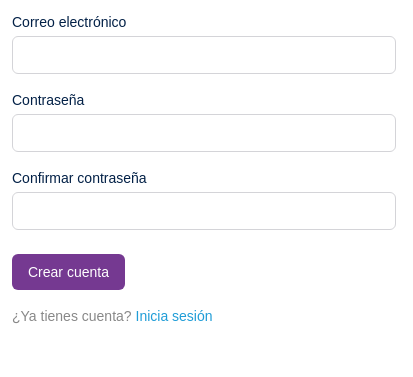
Test case: RegisterForm › shows the backend error message and does not navigate when registration fails
Type "a@example.com" into the field labelled "Correo electrónico".
click(204, 55); type("a@example.com")  # box left=12, top=36, right=396, bottom=74
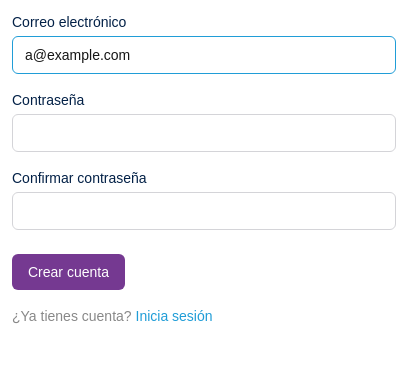
Type "correct-horse" into the password field labelled "Contraseña".
click(204, 133); type("correct-horse")  # box left=12, top=114, right=396, bottom=152
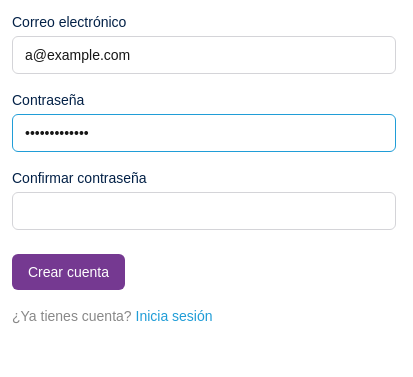
Type "correct-horse" into the password field labelled "Confirmar contraseña".
click(204, 211); type("correct-horse")  # box left=12, top=192, right=396, bottom=230
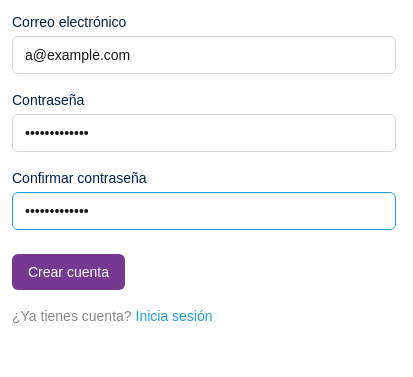
Click the button "Crear cuenta".
click(68, 272)  # box left=12, top=254, right=125, bottom=290
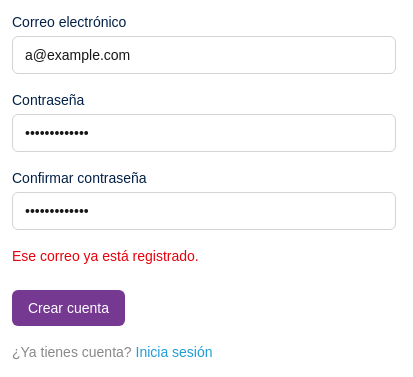
expect the message reads "Ese correo ya está registrado.": met, box left=12, top=248, right=199, bottom=264
